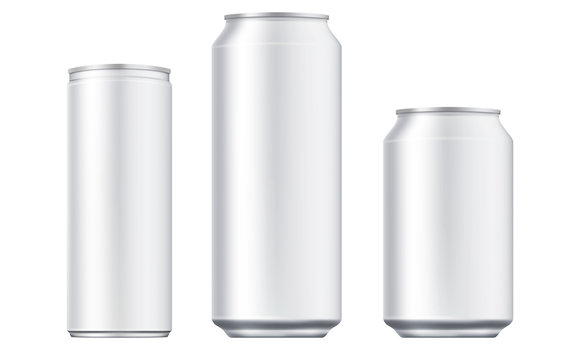can: (207, 11, 348, 341), (382, 105, 515, 340), (65, 63, 177, 341)
